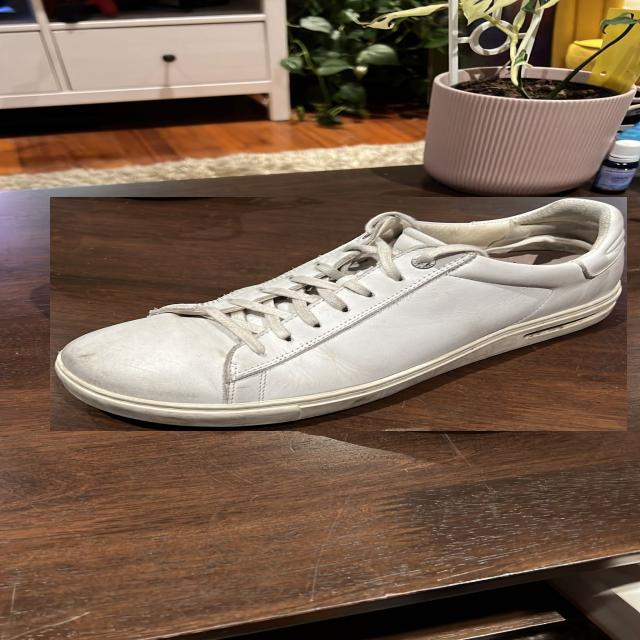shoe: (50, 197, 627, 431)
